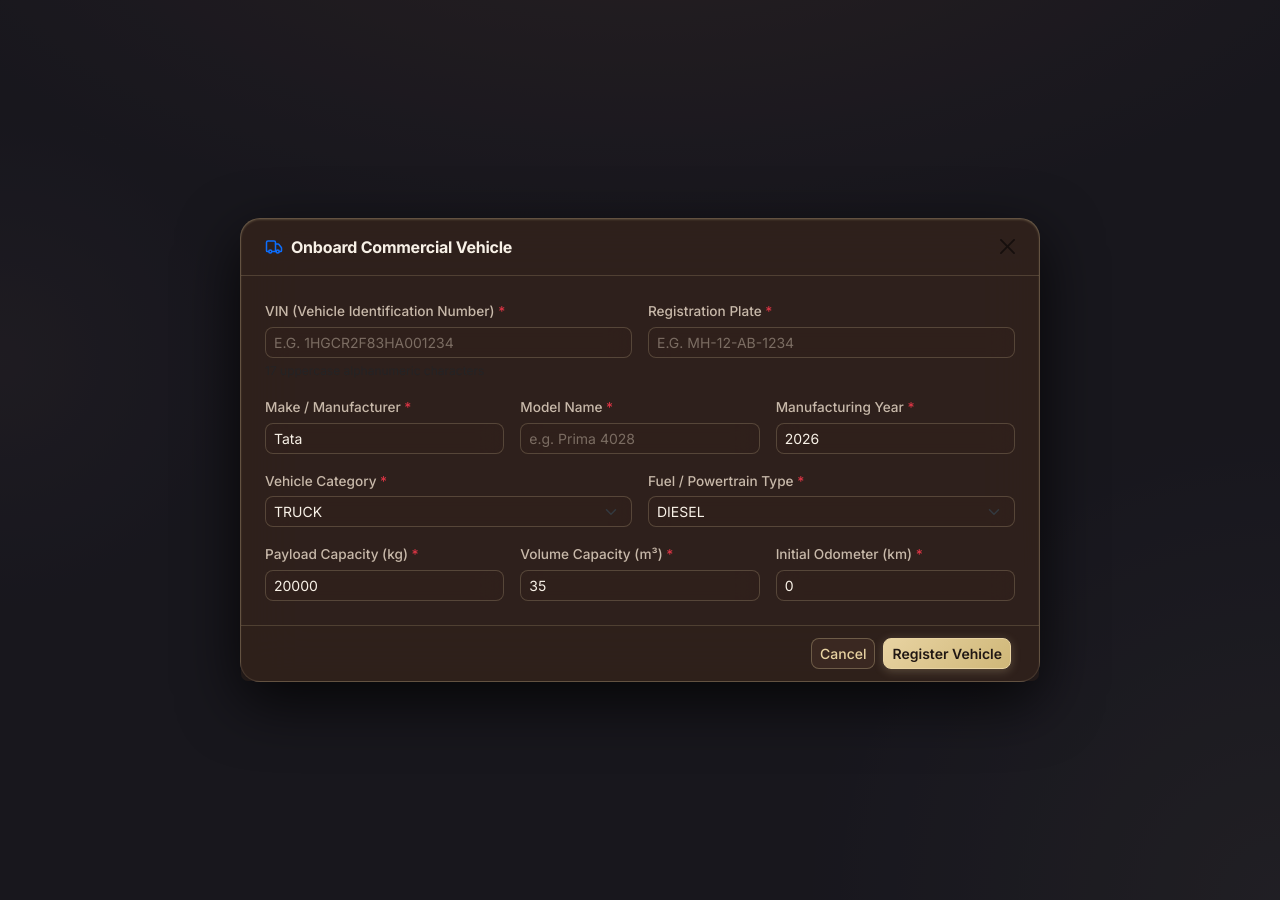
Scenario: Fleet & Asset Management Frontend Components › CreateVehicleModal › rejects submission if VIN is not exactly 17 characters
In the field labelled "VIN (Vehicle Identification Number) *": (448, 342) [265, 326, 632, 358], type "SHORTVIN"
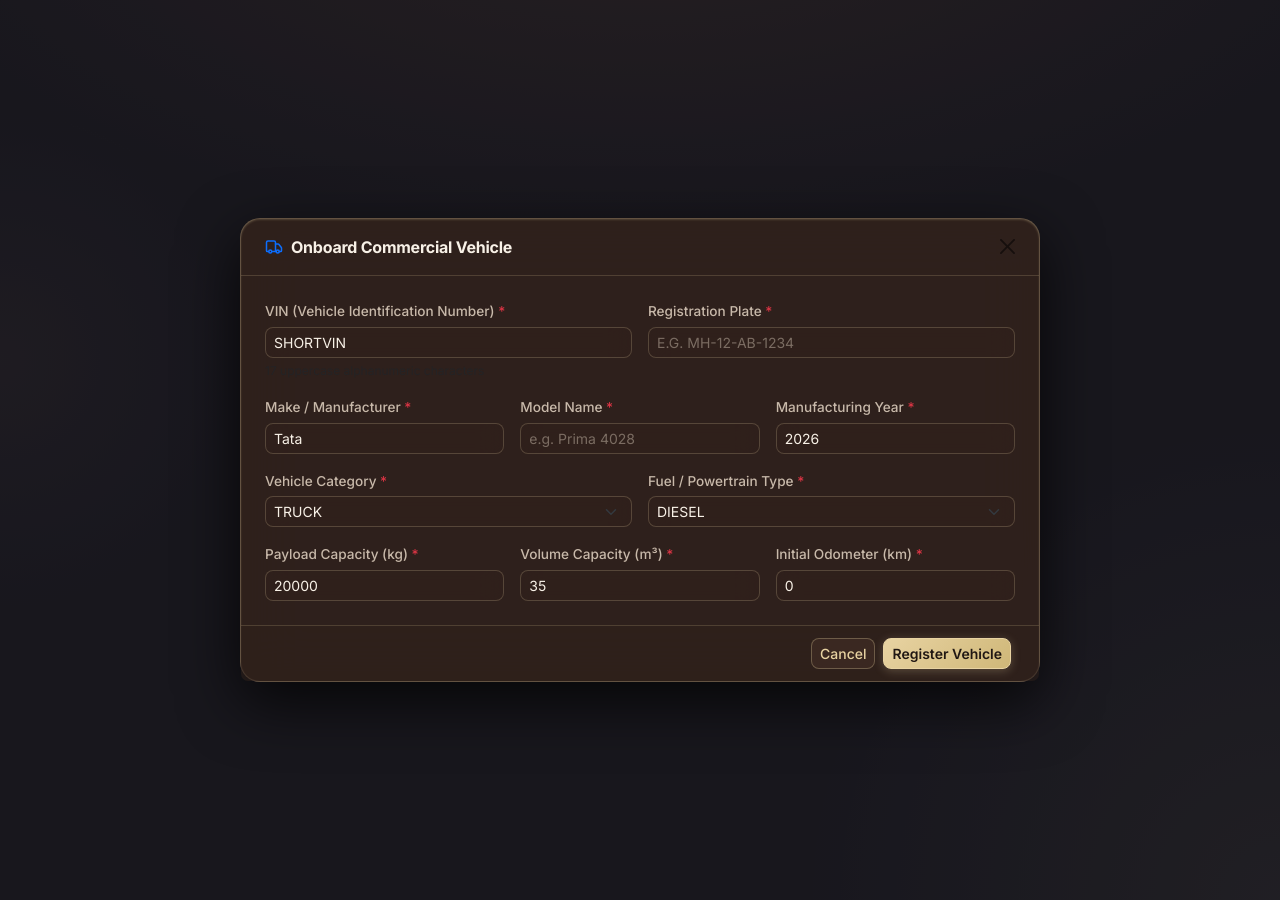
In the field labelled "Registration Plate *": (832, 342) [648, 326, 1015, 358], type "MH-12-AB-1234"
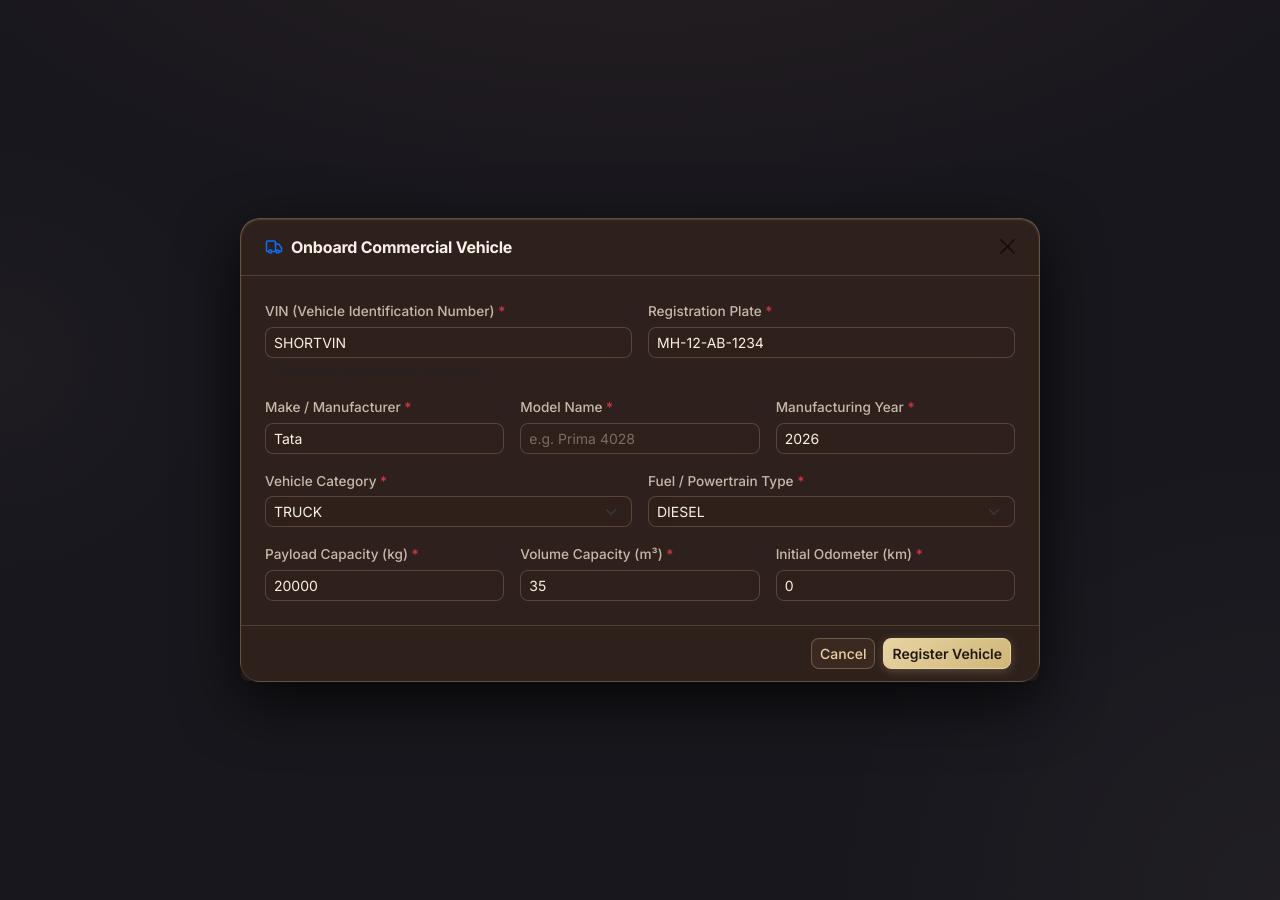
In the field labelled "Model Name *": (640, 438) [520, 422, 760, 454], type "Prima 4028"
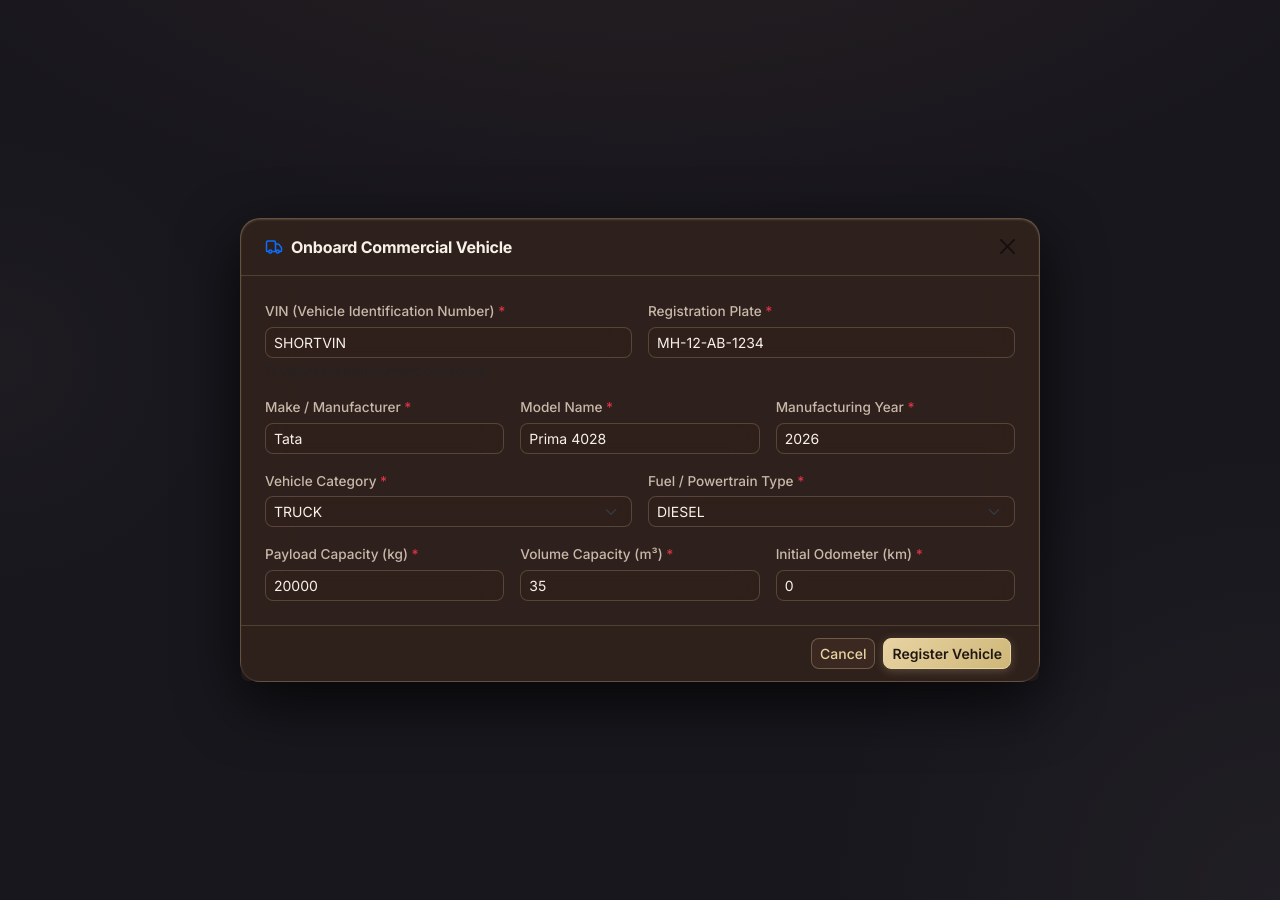
Click the button "Register Vehicle": (947, 654) [884, 638, 1011, 670]
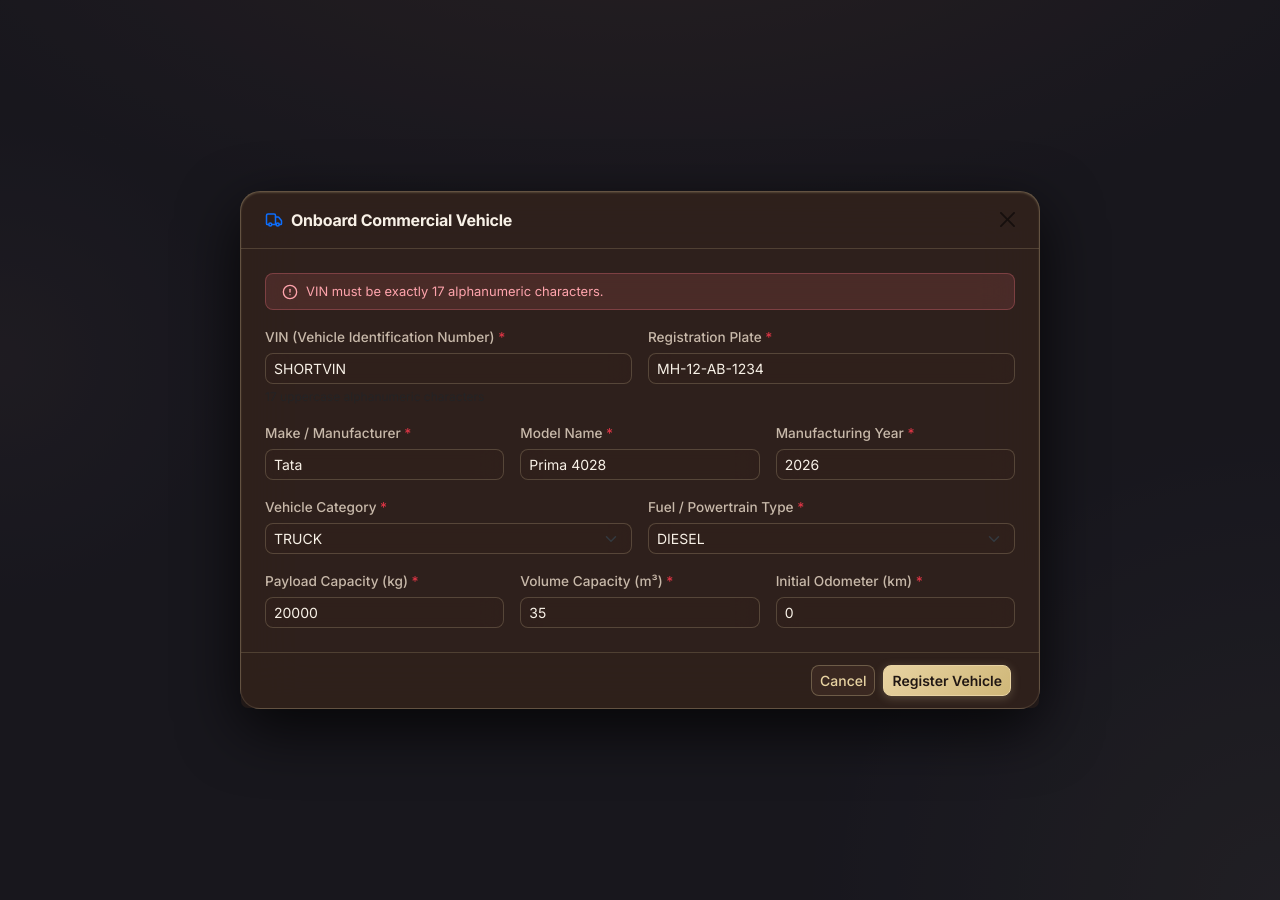
Check: the text "VIN must be exactly 17 alphanumeric characters." is shown, box [306, 282, 604, 301]
